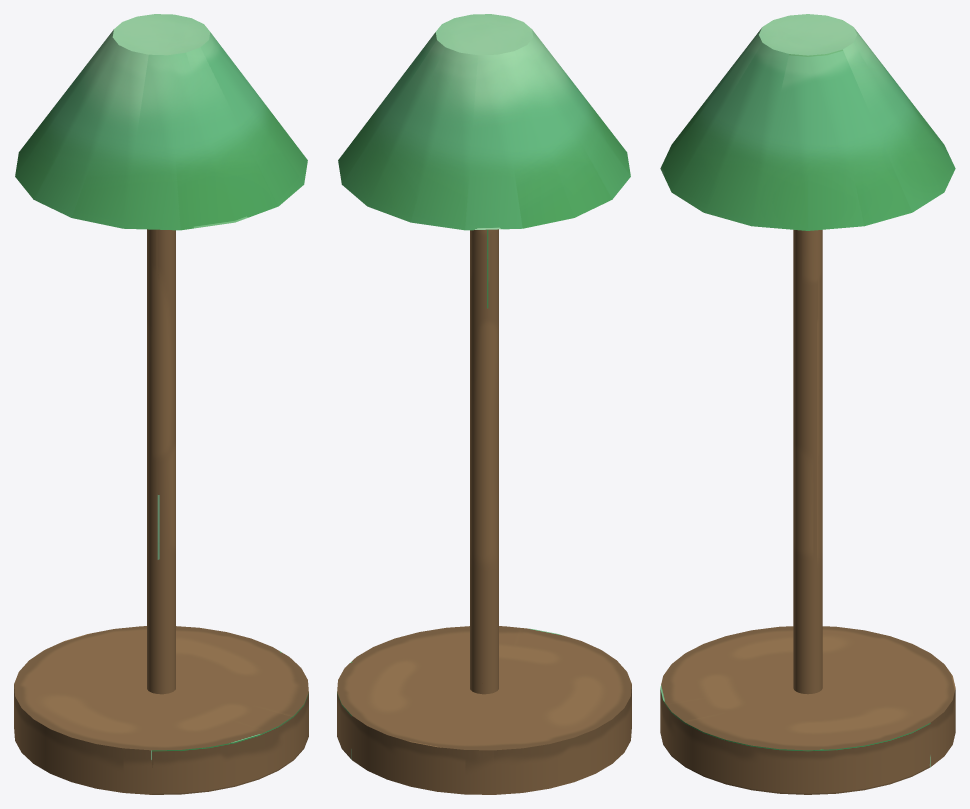
The model's file is lampp.fbx.
3 renders of one model, left to right at view 1: azimuth 30°, elevation 25°; view 2: azimuth 150°, elevation 25°; view 3: azimuth 270°, elevation 25°, orthographic.
Visible parts, largest first — view 1: Cylinder.001; view 2: Cylinder.001; view 3: Cylinder.001.
Part boxes in pixels (x1,y1,x2,y2): Cylinder.001: [14, 14, 308, 794]; Cylinder.001: [337, 14, 631, 794]; Cylinder.001: [660, 14, 955, 794].
Bounding box in the file's own units: 600 × 1564 × 600.
Materials: 1 (1 with a texture image).
